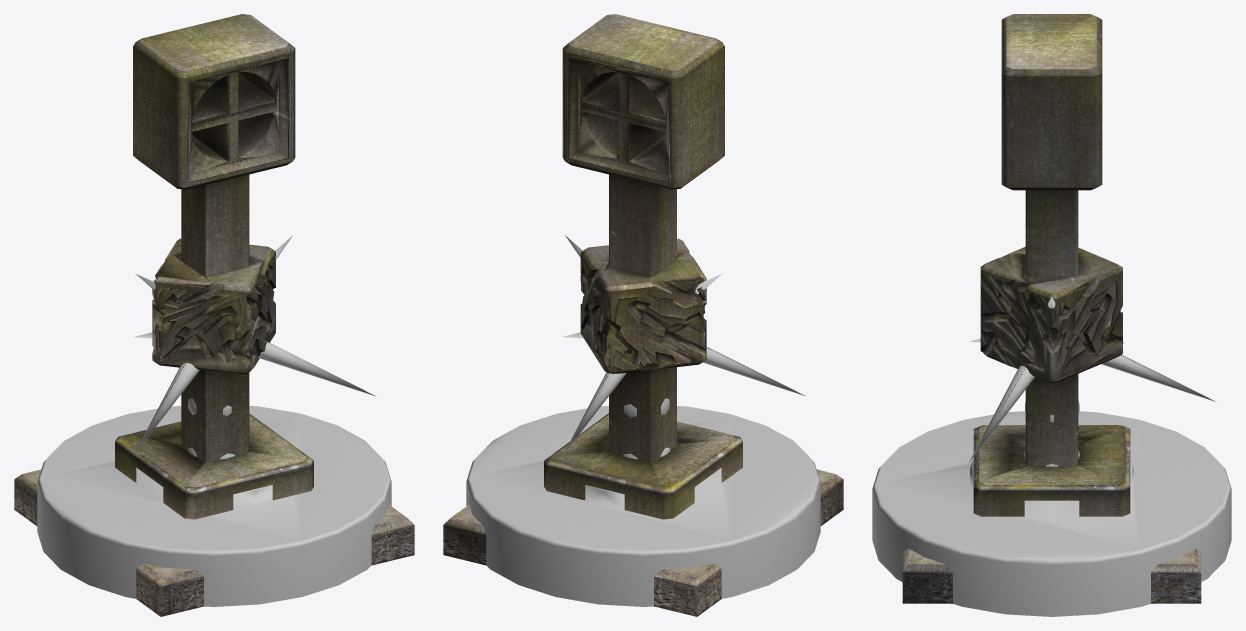
The model's file is sculptures_01_02.fbx.
The picture shows the model from 3 angles, left to right: view 1: azimuth 30°, elevation 25°; view 2: azimuth 150°, elevation 25°; view 3: azimuth 270°, elevation 25°; orthographic projection.
Visible parts, largest first — view 1: Mesh, Mesh_ncl1_1; view 2: Mesh, Mesh_ncl1_1; view 3: Mesh, Mesh_ncl1_1.
Part boxes in pixels (x1,y1,x2,y2): Mesh: (14, 14, 414, 616); Mesh_ncl1_1: (37, 235, 391, 606); Mesh: (443, 14, 843, 616); Mesh_ncl1_1: (466, 235, 820, 606); Mesh: (902, 14, 1201, 603); Mesh_ncl1_1: (872, 297, 1231, 616).
Size of the model in its own units: 492 by 750 by 490.
